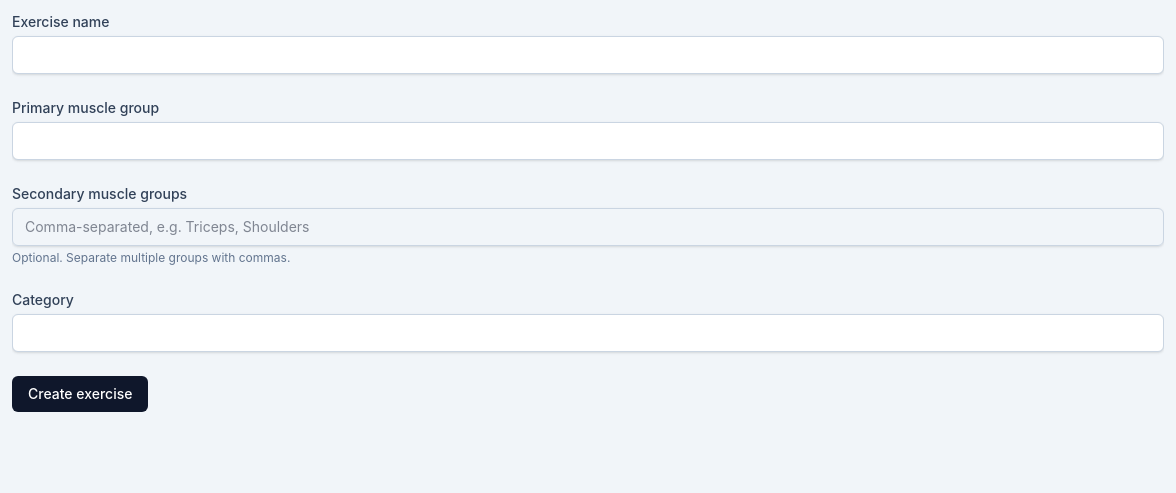
Test: ExerciseForm › displays a general error message
Type "Cable Fly" into the field labelled "Exercise name" at (588, 55), box [12,36,1164,74]
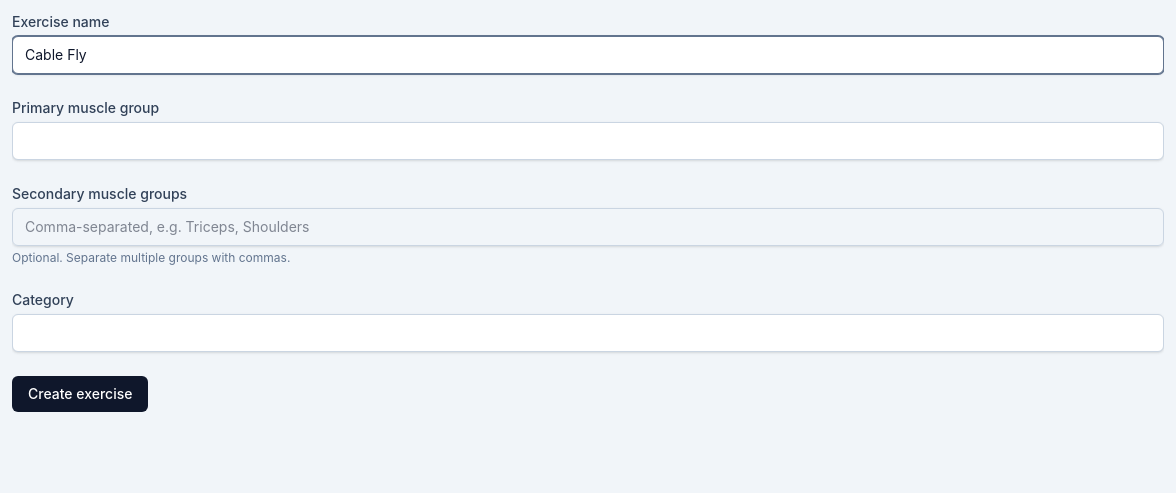
Type "Chest" into the field labelled "Primary muscle group" at (588, 141), box [12,122,1164,160]
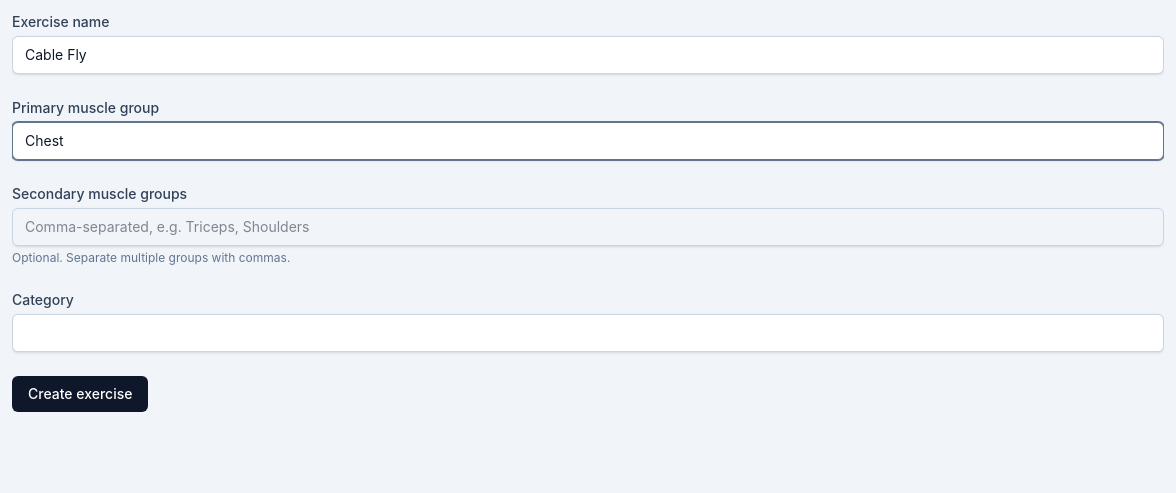
Type "Cable" into the field labelled "Category" at (588, 333), box [12,314,1164,352]
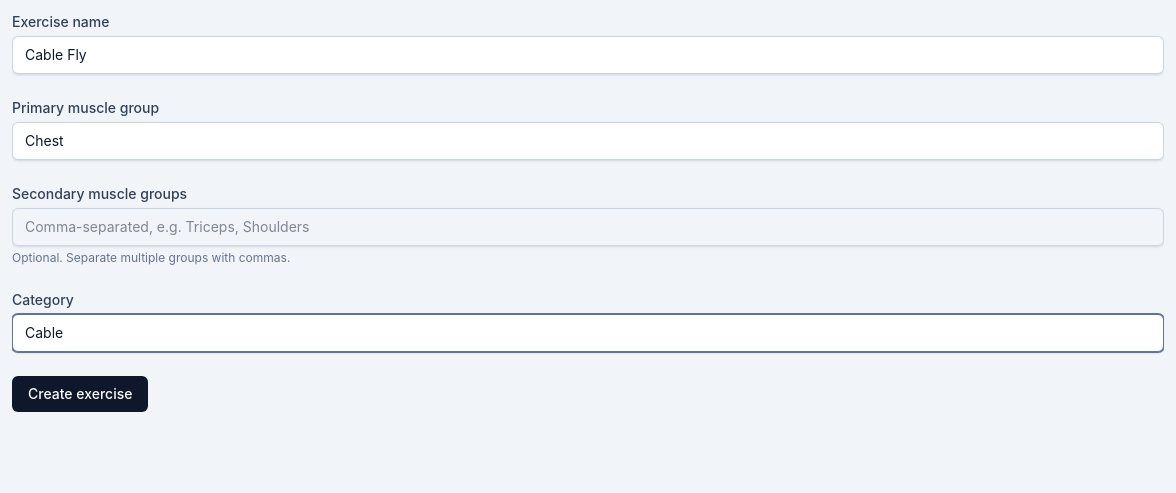
Click the button "Create exercise" at (80, 394), box [12,376,148,412]
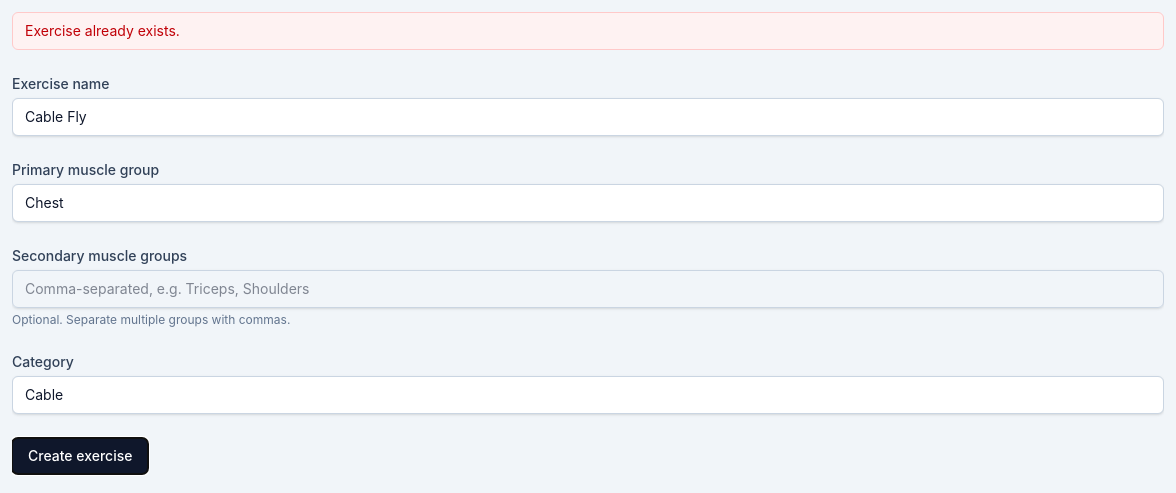
expect the message reads "Exercise already exists.": met, box [25,22,180,39]
